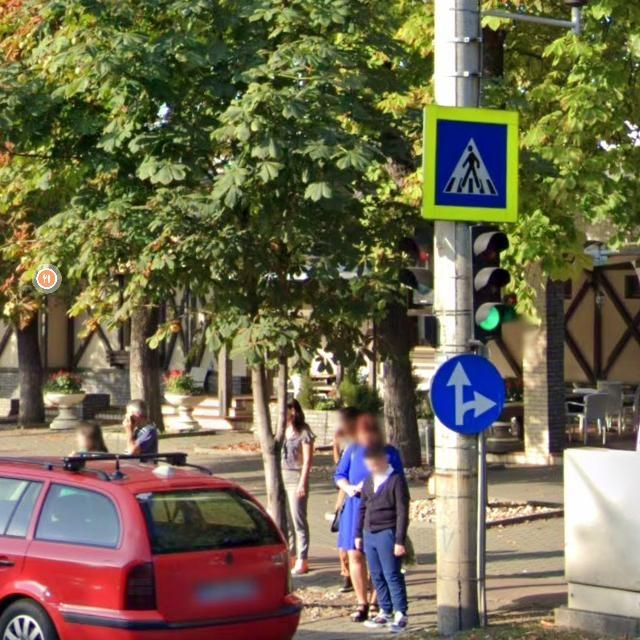info_crosswalk: (416, 102, 523, 224)
